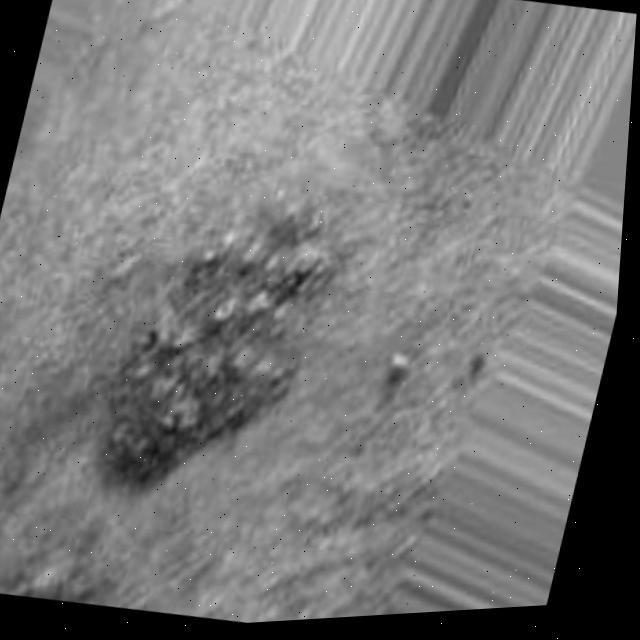Shingles: (69, 162, 378, 521)
